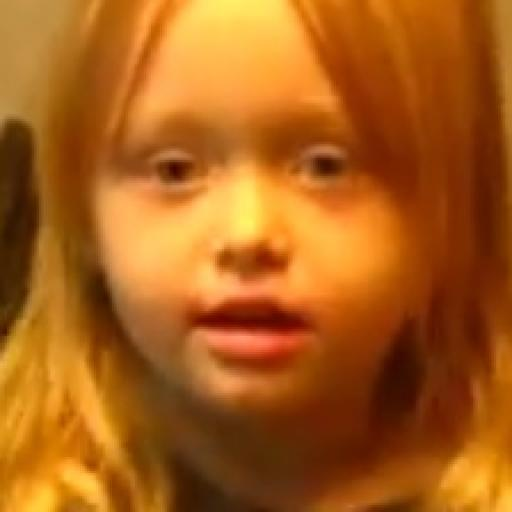Autism: (64, 0, 492, 447)
